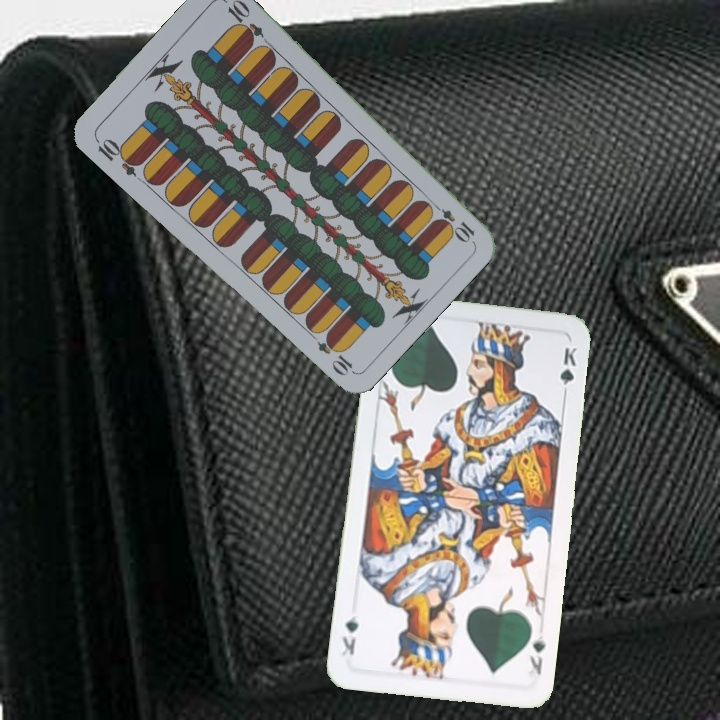E10: (91, 134, 145, 179), (426, 198, 478, 244)
GK: (526, 631, 548, 678)
